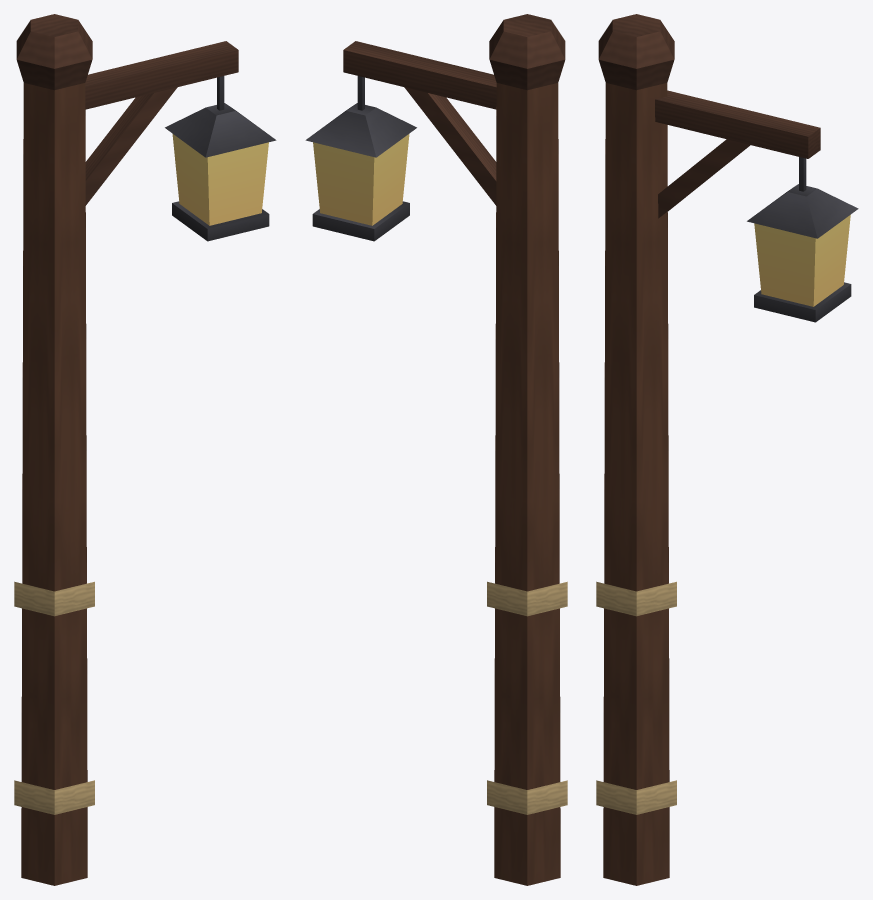
Rendered from dock_lamp_01.glb.
3 views of the same model, side by side, from view 1: azimuth 30°, elevation 25°; view 2: azimuth 150°, elevation 25°; view 3: azimuth 330°, elevation 25° (orthographic).
Parts seen in each view (by area): view 1: dock_lamp_01; view 2: dock_lamp_01; view 3: dock_lamp_01.
Part boxes in pixels (x1,y1,x2,y2): dock_lamp_01: [14, 14, 276, 885]; dock_lamp_01: [305, 14, 567, 885]; dock_lamp_01: [596, 14, 858, 885].
Size of the model in its own units: 1.02 by 3.4 by 0.3.
1 material, 1 textured.
